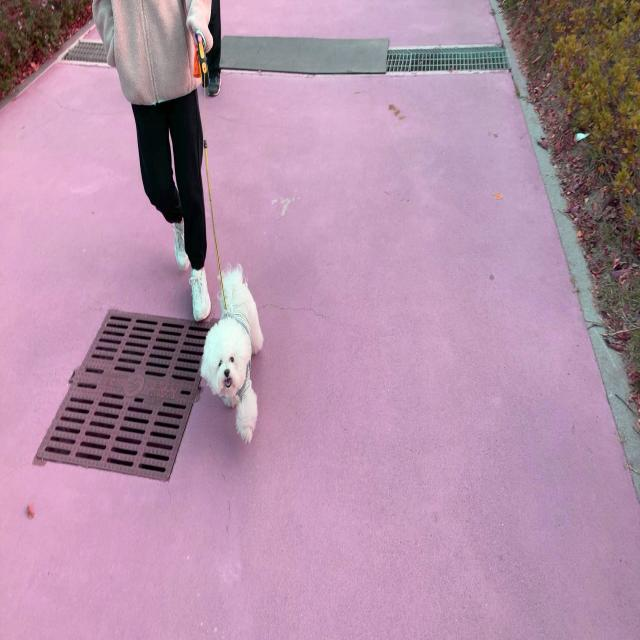Leashed_Dog: (142, 29, 264, 444)
